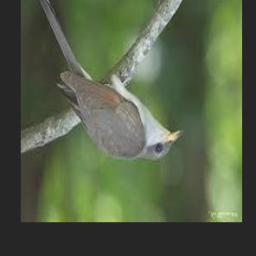Cuckoo: (36, 0, 182, 162)
